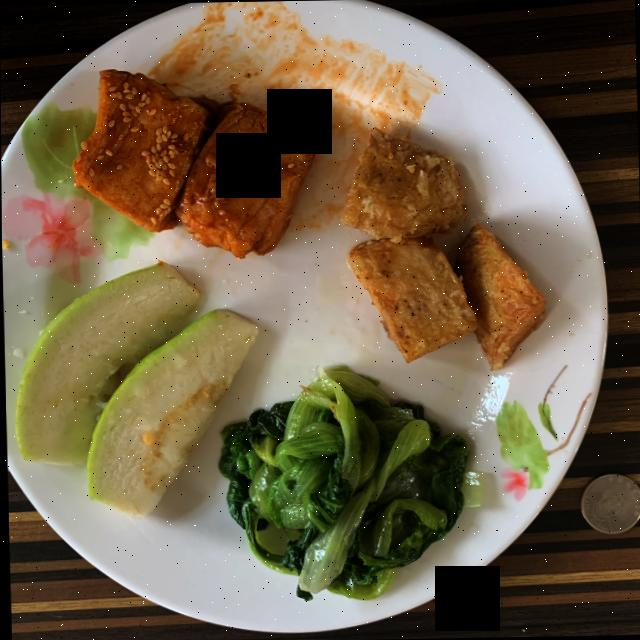coin: (578, 474, 640, 534)
creamy tofu: (71, 70, 317, 258)
fried potato: (340, 128, 545, 370)
guava -sliced-: (14, 262, 256, 518)
mustard greens: (217, 369, 467, 600)
